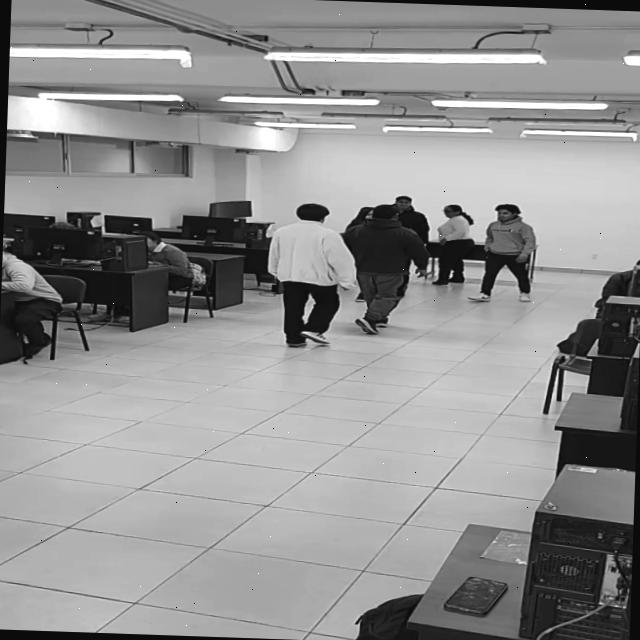Persona: (265, 201, 359, 349), (338, 202, 431, 336), (465, 202, 538, 303), (430, 202, 475, 286), (391, 195, 431, 244), (343, 205, 376, 232)
